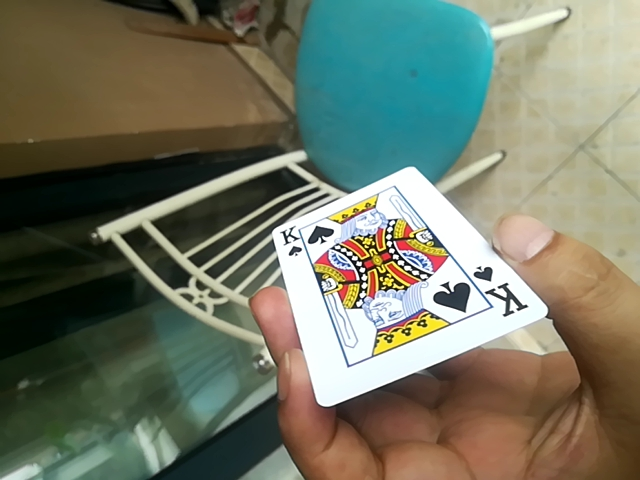ht k: (264, 163, 545, 411)
